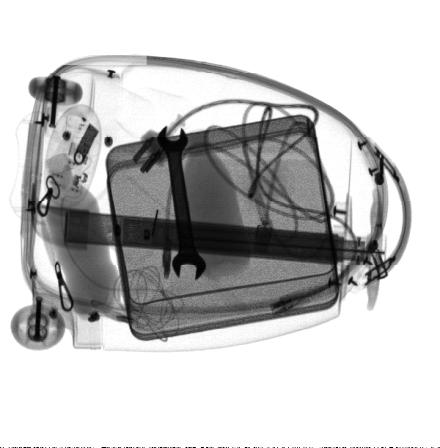Wrench: (157, 123, 207, 281)
